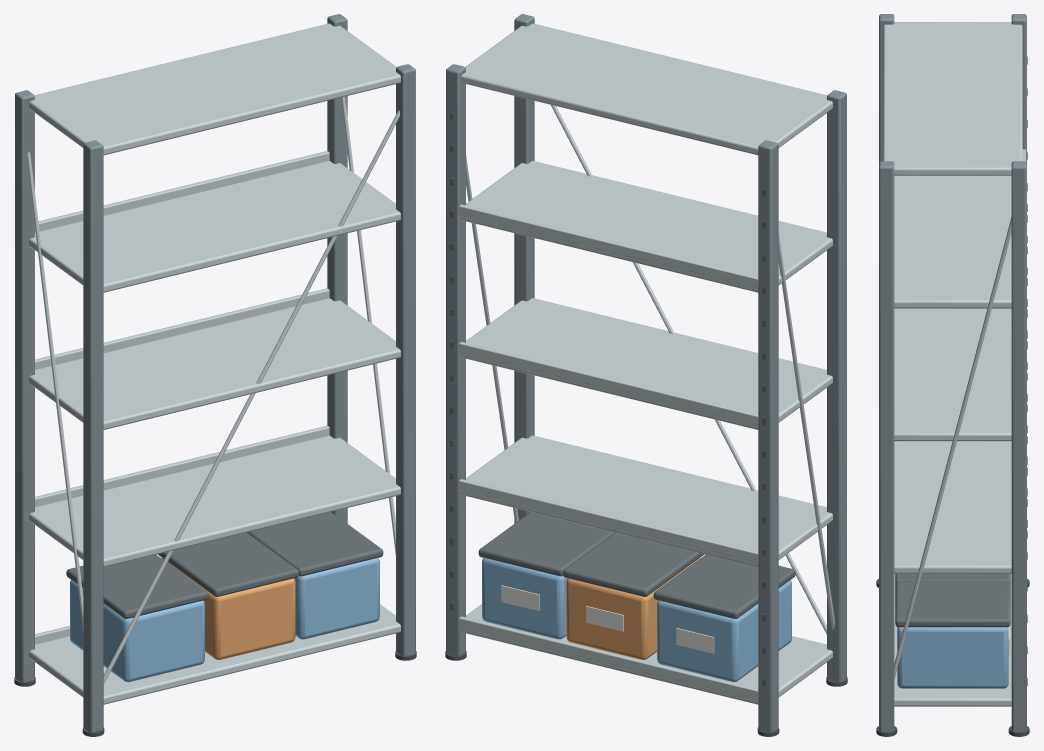
File: open_shelving.glb
The picture shows the model from 3 angles, left to right: view 1: azimuth 30°, elevation 25°; view 2: azimuth 150°, elevation 25°; view 3: azimuth 270°, elevation 25°; orthographic projection. The views are drawn at different scales.
Parts seen in each view (by area): view 1: shelves_alloy, uprights_dark_alloy, tub_lids_graphite, storage_tubs_cool_blue, shelf_lips_alloy, cross_braces_alloy, storage_tubs_orange; view 2: shelves_alloy, uprights_dark_alloy, tub_lids_graphite, shelf_lips_alloy, storage_tubs_cool_blue, storage_tubs_orange, cross_braces_alloy, tub_labels_white_painted, upright_slots_graphite; view 3: shelves_alloy, uprights_dark_alloy, storage_tubs_cool_blue, tub_lids_graphite, cross_braces_alloy, feet_black_rubber, upright_slots_graphite.
Part boxes in pixels (box(x1,y1,x2,y2)): shelves_alloy: box(29, 23, 400, 704); uprights_dark_alloy: box(15, 14, 415, 732); tub_lids_graphite: box(66, 512, 383, 618); storage_tubs_cool_blue: box(70, 557, 379, 682); shelf_lips_alloy: box(35, 151, 329, 644); cross_braces_alloy: box(27, 96, 400, 684); storage_tubs_orange: box(161, 558, 295, 659); shelves_alloy: box(461, 23, 832, 704); uprights_dark_alloy: box(446, 14, 846, 732); tub_lids_graphite: box(478, 512, 795, 618); shelf_lips_alloy: box(458, 204, 758, 700); storage_tubs_cool_blue: box(482, 557, 791, 682); storage_tubs_orange: box(566, 558, 700, 659); cross_braces_alloy: box(466, 105, 834, 634); tub_labels_white_painted: box(501, 585, 714, 653); upright_slots_graphite: box(449, 112, 766, 686); shelves_alloy: box(883, 22, 1022, 706); uprights_dark_alloy: box(879, 14, 1026, 731); storage_tubs_cool_blue: box(897, 627, 1008, 688); tub_lids_graphite: box(895, 574, 1010, 627); cross_braces_alloy: box(894, 217, 1011, 679); feet_black_rubber: box(876, 579, 1029, 736); upright_slots_graphite: box(1027, 56, 1027, 685).
Bounding box in the file's own units: 1.06 × 1.8 × 0.44.
